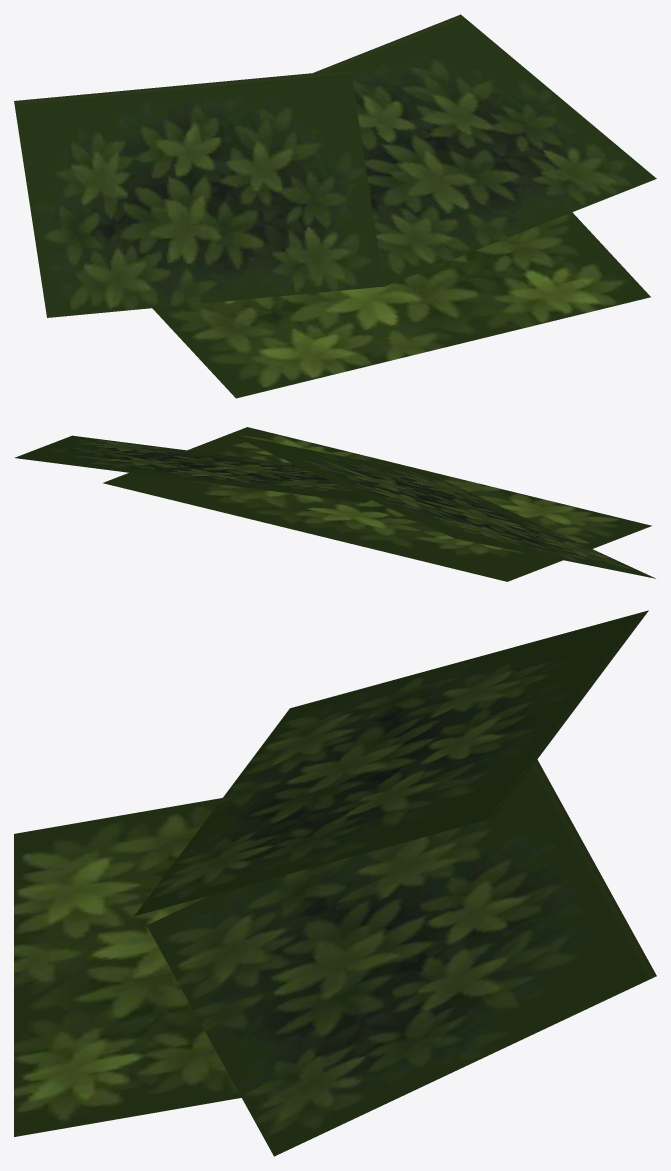
Rendered from dec_Border_Bush_05_61751.glb.
3 views of the same model, one above another, from view 1: azimuth 30°, elevation 25°; view 2: azimuth 150°, elevation 25°; view 3: azimuth 270°, elevation 25° (orthographic). The views are drawn at different scales.
Parts seen in each view (by area): view 1: Border_Bush_05_mesh; view 2: Border_Bush_05_mesh; view 3: Border_Bush_05_mesh.
Boxes of the visible parts, box(x1,y1,x2,y2) form: Border_Bush_05_mesh: box(14, 14, 656, 398); Border_Bush_05_mesh: box(14, 427, 655, 581); Border_Bush_05_mesh: box(14, 610, 656, 1156).
Size of the model in its own units: 1.36 by 0.311 by 0.8374.
1 material, 1 textured.
